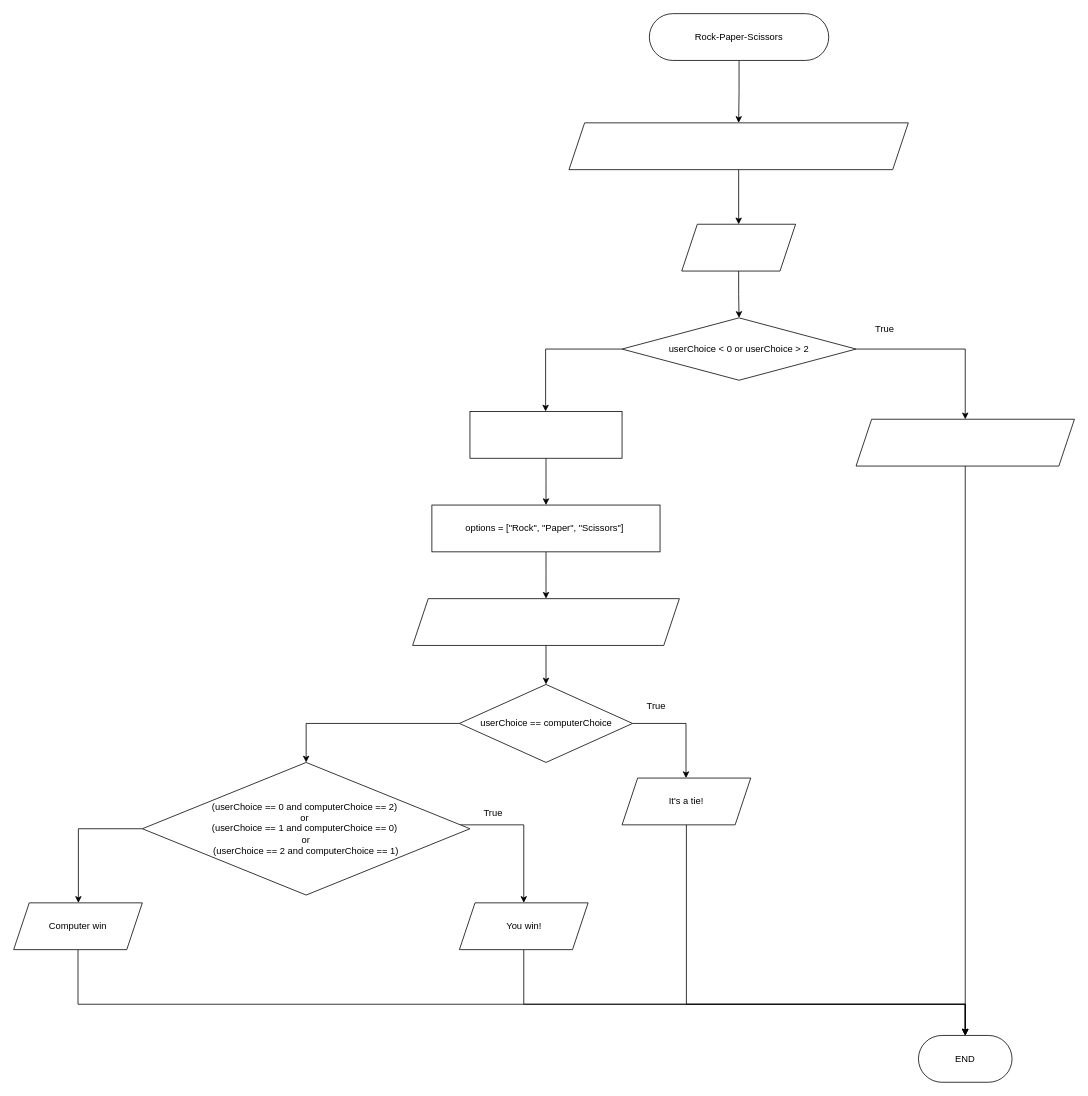
Some shapes in this 1088 by 1096 pixel diagram are drawn without their labels. The shapes that lost their labels are listed below. From the top down, each one's centre as x and y in pixels, then its label:
the point at 738,146: Choose: 0 - Rock, 1 - Paper, 2 - Scissors >>>
the point at 738,247: userChoise
the point at 545,434: computerChoice = rand() % 3 ;
the point at 964,442: Invalid choice! Please select 0, 1, or 2.
the point at 545,621: You chose: options[userChoice] Computer chose: options[computerChoice]
